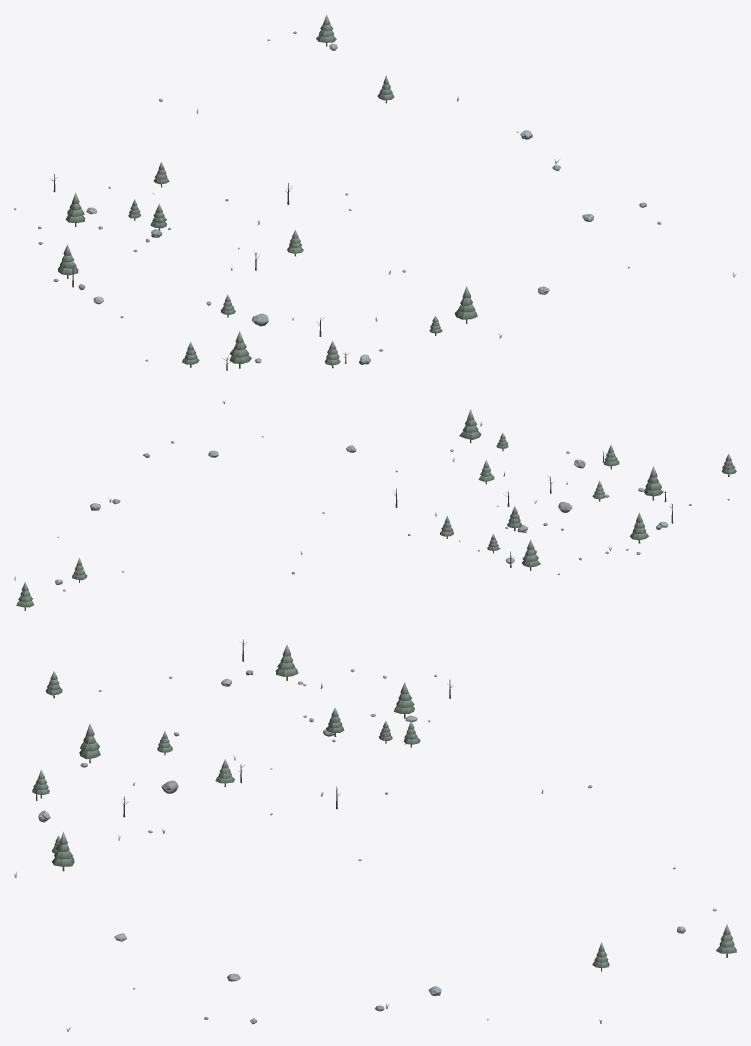
The model's file is frost_land_scatter_c16_10.glb.
3 renders of one model, top to bottom at view 1: azimuth 30°, elevation 25°; view 2: azimuth 150°, elevation 25°; view 3: azimuth 270°, elevation 25°, orthographic. The views are drawn at different scales.
Visible parts, largest first — view 1: frost_land_scatter_c16_10; view 2: frost_land_scatter_c16_10; view 3: frost_land_scatter_c16_10.
Boxes of the visible parts, left/top/right/bottom form: frost_land_scatter_c16_10: left=14, top=14, right=736, bottom=370; frost_land_scatter_c16_10: left=14, top=400, right=736, bottom=610; frost_land_scatter_c16_10: left=14, top=639, right=736, bottom=1031.
Bounding box in the file's own units: 251 × 41.45 × 258.
